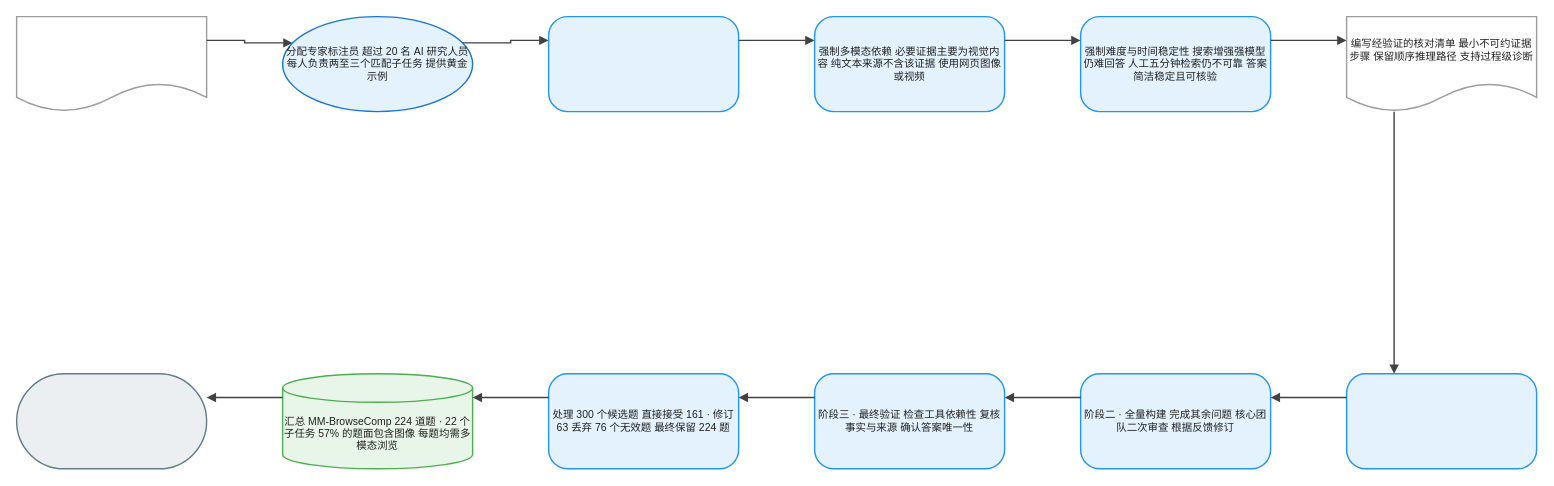
This 1554x486 diagram has some shape labels left out. The centre of each missing label's shape, as x and y in pixels:
"以 Pass@1 评测智能体 整体准确率 · 最终答案 严格准确率 · 全清单通过 平均清单得分" belongs at (x=111, y=421).
"定义 22 个浏览子任务 媒体 · 技术 · 社会 地理 · 学术 要求多模态网页研究" belongs at (x=111, y=63).
"采用反向问题构造 从已知可验证事实出发 检索权威来源 迭代至答案唯一" belongs at (x=643, y=63).
"阶段一 · 试点与校准 每个子任务先做三题 核心团队审查示例 对齐质量标准" belongs at (x=1441, y=421).
